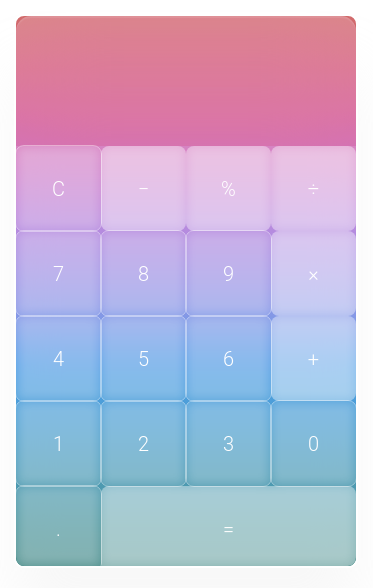
Scenario: Calculator component › Multiplication operation
The image size is (373, 588).
Click the button "2".
click(144, 444)  # box [101,401,186,486]
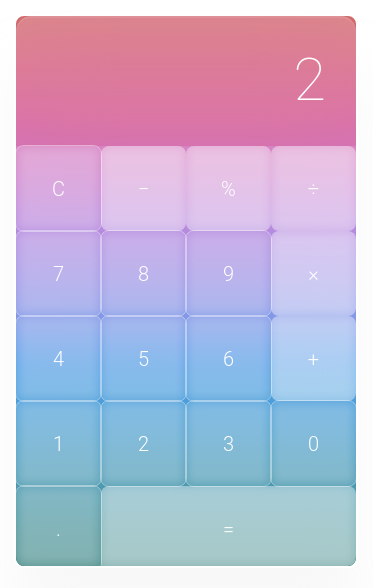
Click the button "×".
click(314, 274)  # box [271,231,356,316]
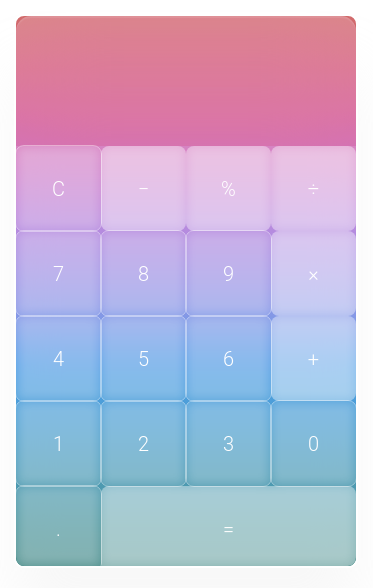
Click the button "1".
click(58, 444)  # box [16,401,101,486]
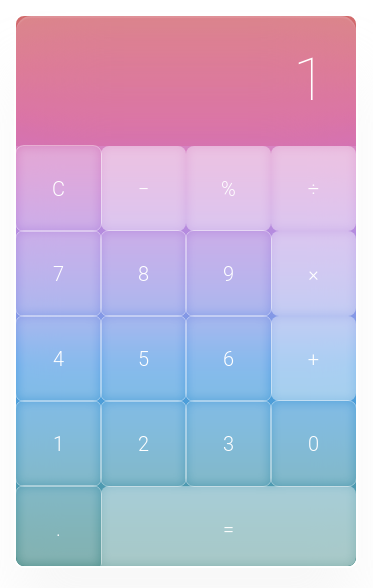
Click the button "=".
click(228, 528)  # box [101,486,356,571]
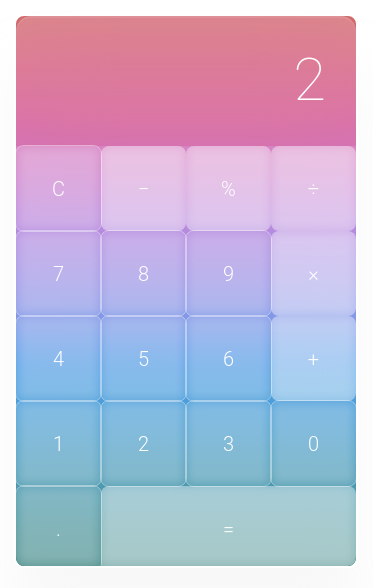
Result: the text with test id "calculator-display" reads "2" at [293,44,326,115]
